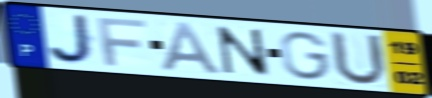A: (159, 20, 225, 76)
F: (95, 16, 149, 68)
G: (277, 30, 333, 82)
J: (46, 13, 98, 66)
N: (214, 24, 273, 78)
U: (327, 29, 390, 88)
